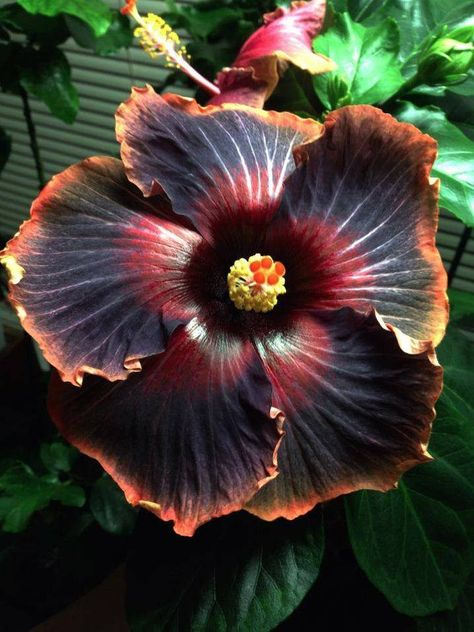Hibiscus: (1, 86, 453, 527), (114, 1, 348, 115), (395, 34, 468, 84)
